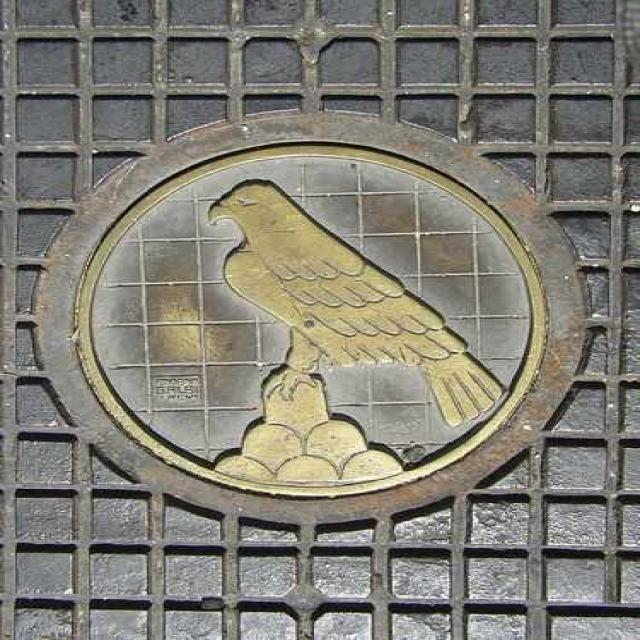manhole: (42, 114, 583, 521)
